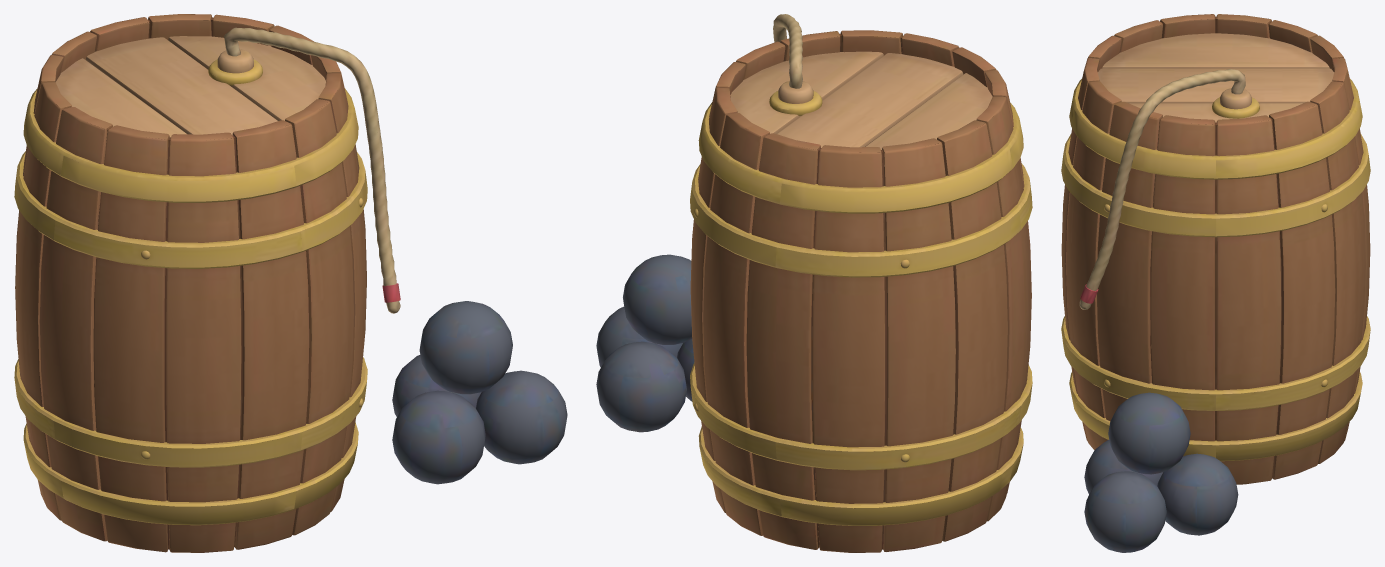
The model's file is barril_polvora.glb.
The picture shows the model from 3 angles, left to right: view 1: azimuth 30°, elevation 25°; view 2: azimuth 150°, elevation 25°; view 3: azimuth 270°, elevation 25°; orthographic projection. The views are drawn at different scales.
Parts seen in each view (by area): view 1: powder-keg_body; view 2: powder-keg_body; view 3: powder-keg_body.
Part boxes in pixels (box(x1,y1,x2,y2)): powder-keg_body: box(14, 14, 567, 552); powder-keg_body: box(596, 14, 1032, 552); powder-keg_body: box(1061, 14, 1370, 552).
Size of the model in its own units: 0.7166 by 0.6455 by 0.4651.
1 material, 1 textured.
